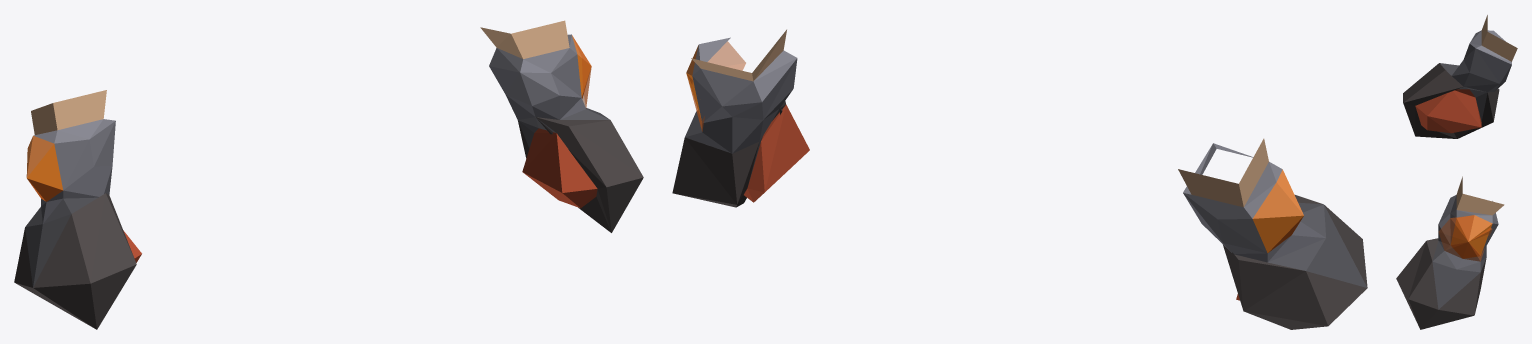
The model's file is player_confliction_gauntlets.glb.
3 views of the same model, side by side, from view 1: azimuth 30°, elevation 25°; view 2: azimuth 150°, elevation 25°; view 3: azimuth 270°, elevation 25° (orthographic). The views are drawn at different scales.
Size of the model in its own units: 78.2 by 27.04 by 20.17.
Materials: 2 (2 with a texture image).
